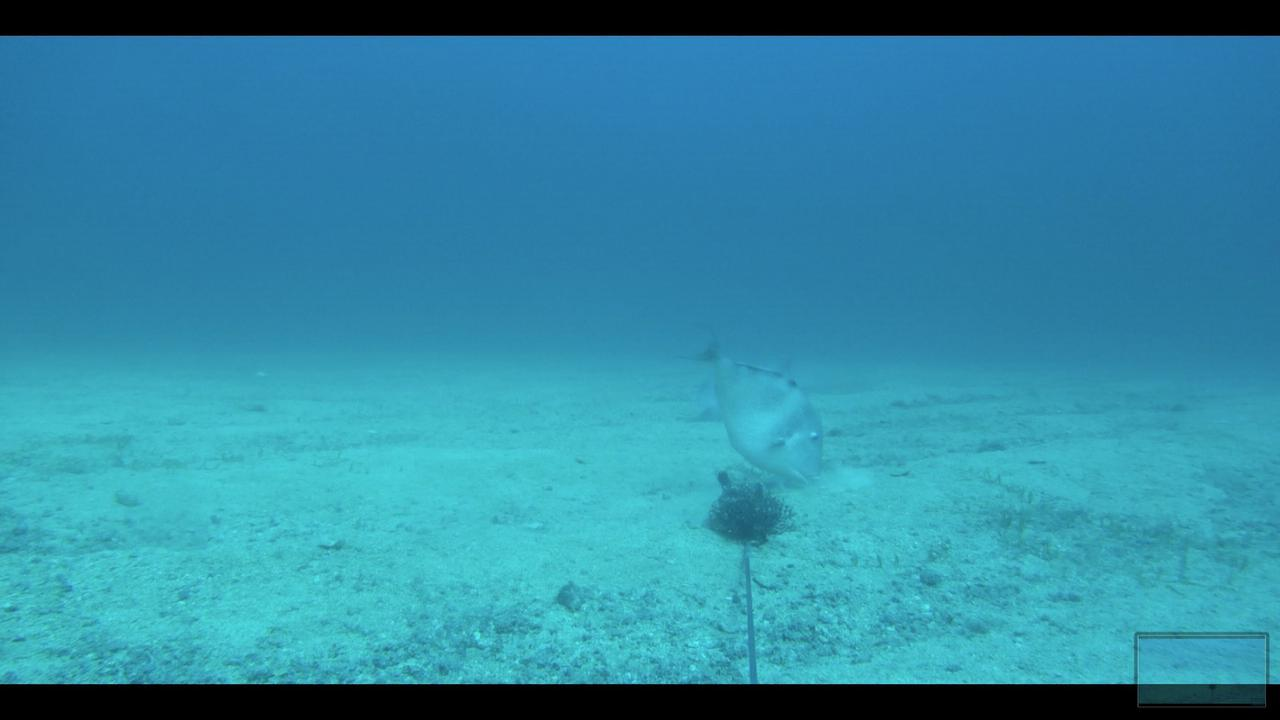balistes: (679, 336, 831, 492)
